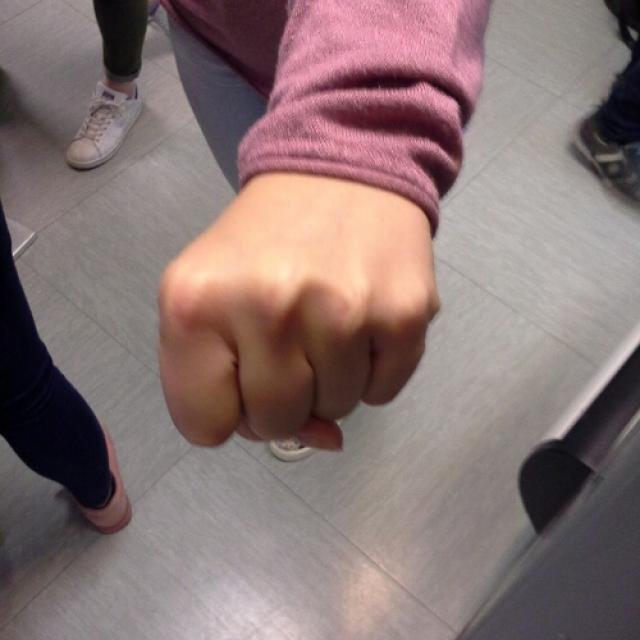rock: (157, 252, 437, 452)
